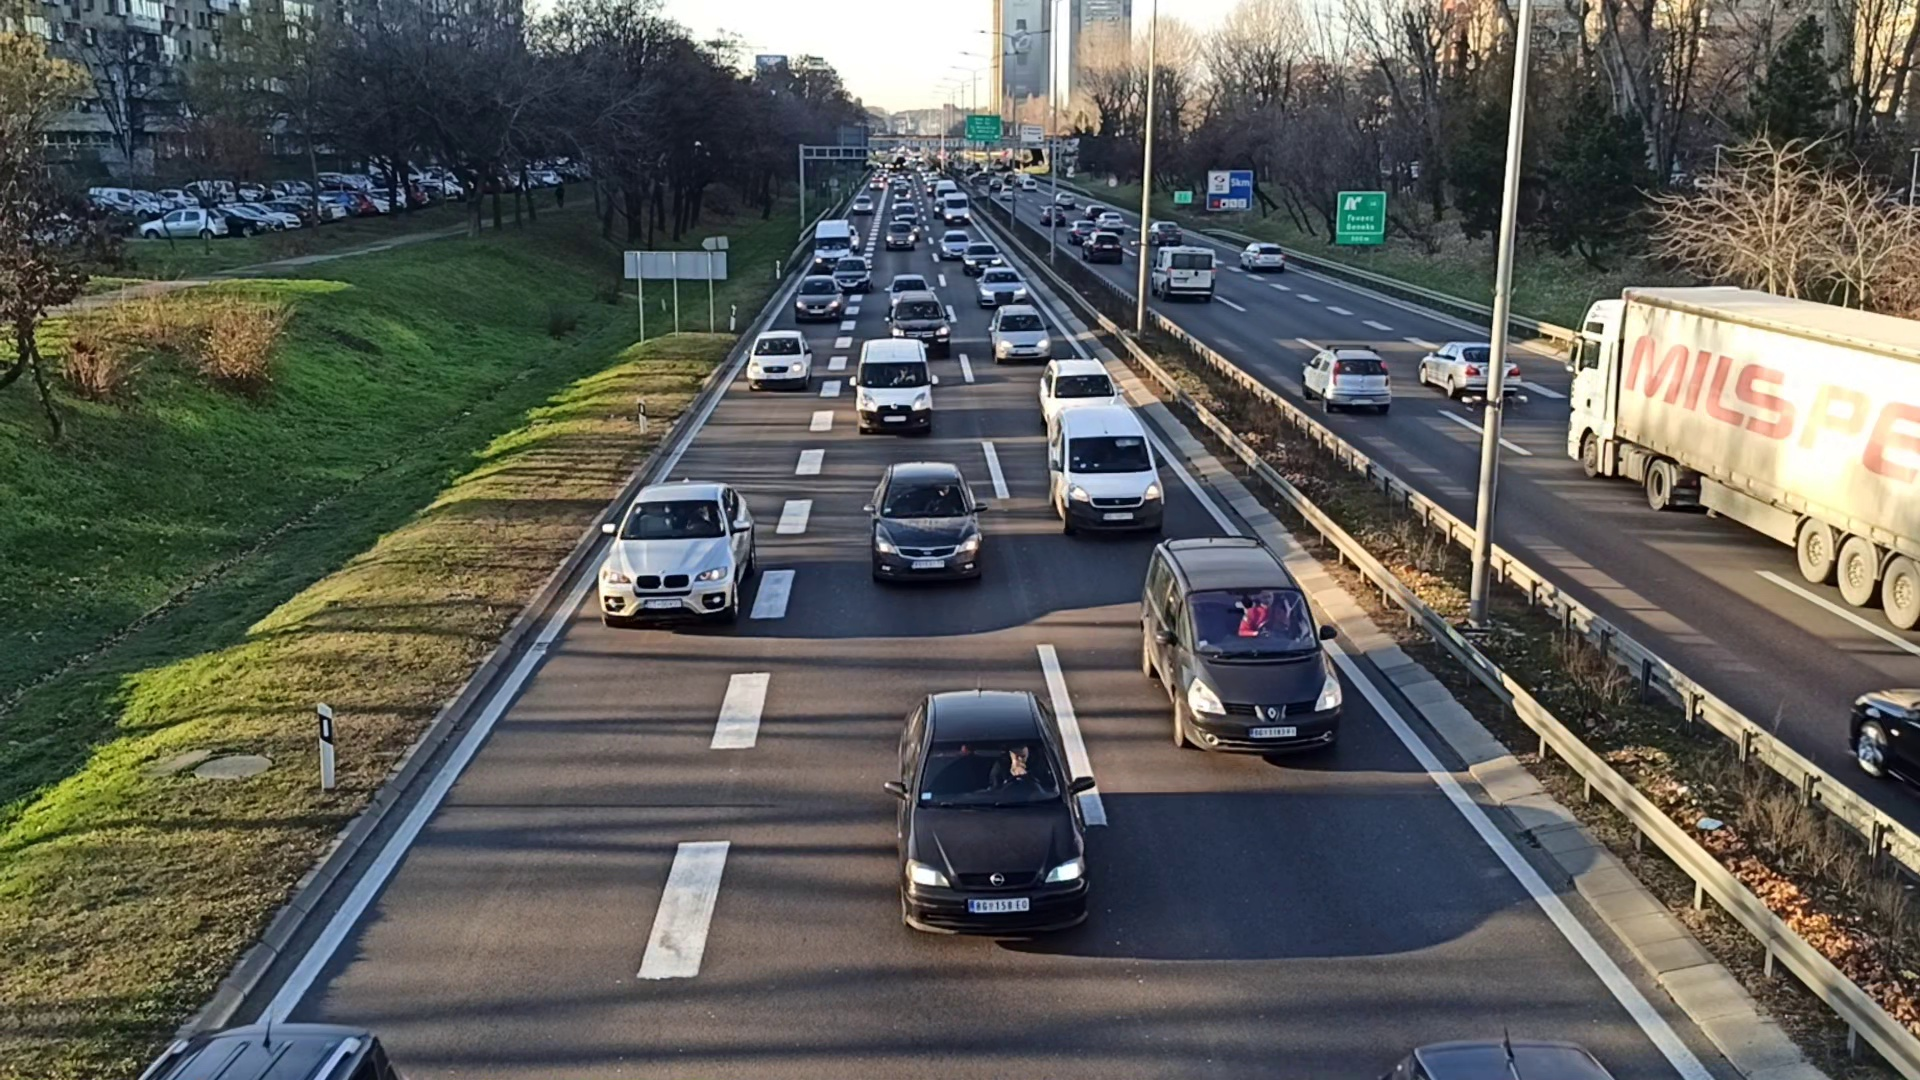car: (895, 688, 1091, 939), (1142, 539, 1345, 757), (600, 480, 756, 626), (870, 464, 982, 583), (1302, 345, 1393, 419), (1418, 339, 1520, 400), (745, 327, 814, 385), (989, 305, 1050, 363), (793, 274, 845, 318)
truck: (1561, 282, 1920, 629)
van: (1047, 405, 1167, 539), (855, 339, 934, 433), (1150, 244, 1216, 301)
